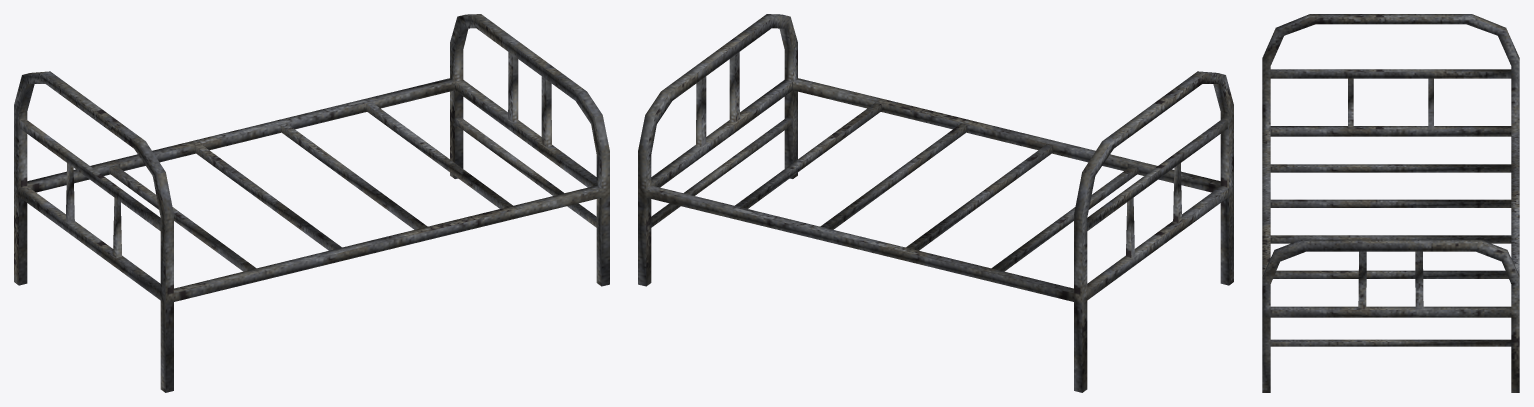
The model's file is bedframe.fbx.
3 views of the same model, side by side, from view 1: azimuth 30°, elevation 25°; view 2: azimuth 150°, elevation 25°; view 3: azimuth 270°, elevation 25° (orthographic). The views are drawn at different scales.
Visible parts, largest first — view 1: BedFrame; view 2: BedFrame; view 3: BedFrame.
Part boxes in pixels (<box>): BedFrame: <box>14,14,609,392</box>; BedFrame: <box>638,14,1233,392</box>; BedFrame: <box>1262,14,1519,392</box>.
Bounding box in the file's own units: 189 × 93.37 × 112.
